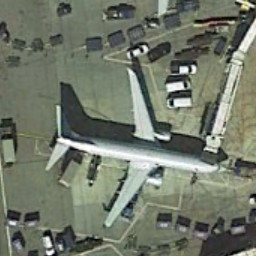Airplane: (37, 58, 227, 233)
